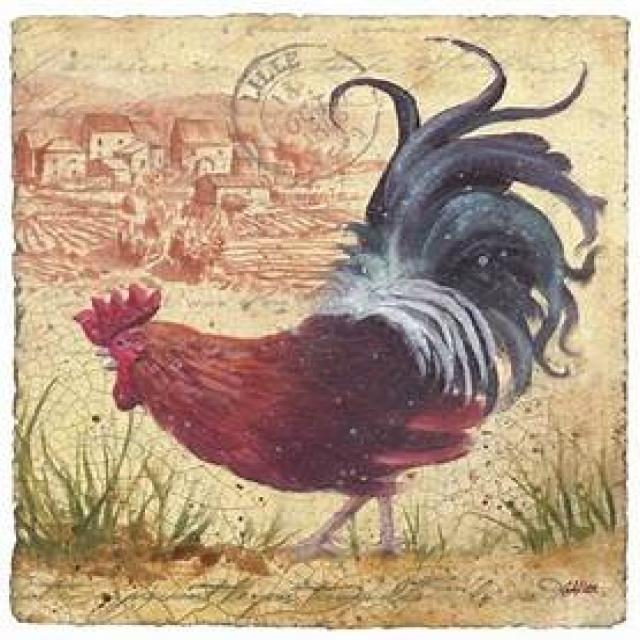hen: (76, 41, 603, 559)
